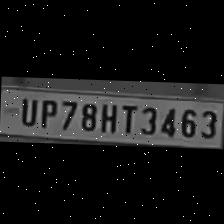3: (196, 105, 217, 138), (137, 100, 157, 134)
4: (156, 102, 176, 136)
6: (176, 103, 198, 136)
7: (56, 96, 76, 130)
8: (76, 97, 98, 130)
H: (97, 98, 119, 132)
P: (36, 95, 56, 128)
T: (117, 98, 137, 132)
U: (15, 93, 38, 125)
